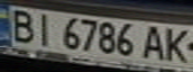6: (115, 20, 142, 57), (57, 15, 81, 51)
7: (75, 17, 100, 53)
8: (96, 19, 121, 55)
A: (139, 24, 169, 61)
B: (3, 7, 39, 43)
I: (30, 11, 57, 46)
K: (160, 25, 193, 64)
